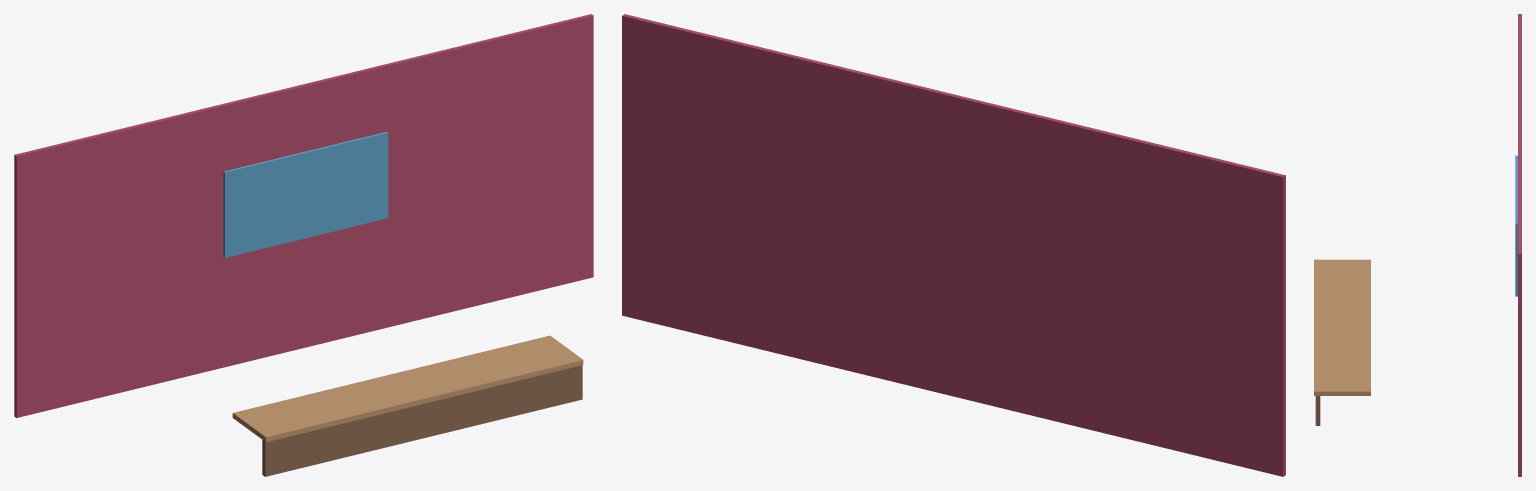
Rendered from talkshow.glb.
The picture shows the model from 3 angles, left to right: view 1: azimuth 30°, elevation 25°; view 2: azimuth 150°, elevation 25°; view 3: azimuth 270°, elevation 25°; orthographic projection. The views are drawn at different scales.
Visible parts, largest first — view 1: curtain, screen, desk, desk-front; view 2: curtain; view 3: desk, curtain, screen.
Boxes of the visible parts, x1,y1,x2,y2 form: curtain: (14,14,593,417); screen: (223,131,388,257); desk: (232,335,583,442); desk-front: (262,365,582,476); curtain: (622,14,1285,476); desk: (1314,259,1370,395); curtain: (1518,14,1521,476); screen: (1515,155,1517,296).
Bounding box in the file's own units: 12 × 5.27 × 4.39.
